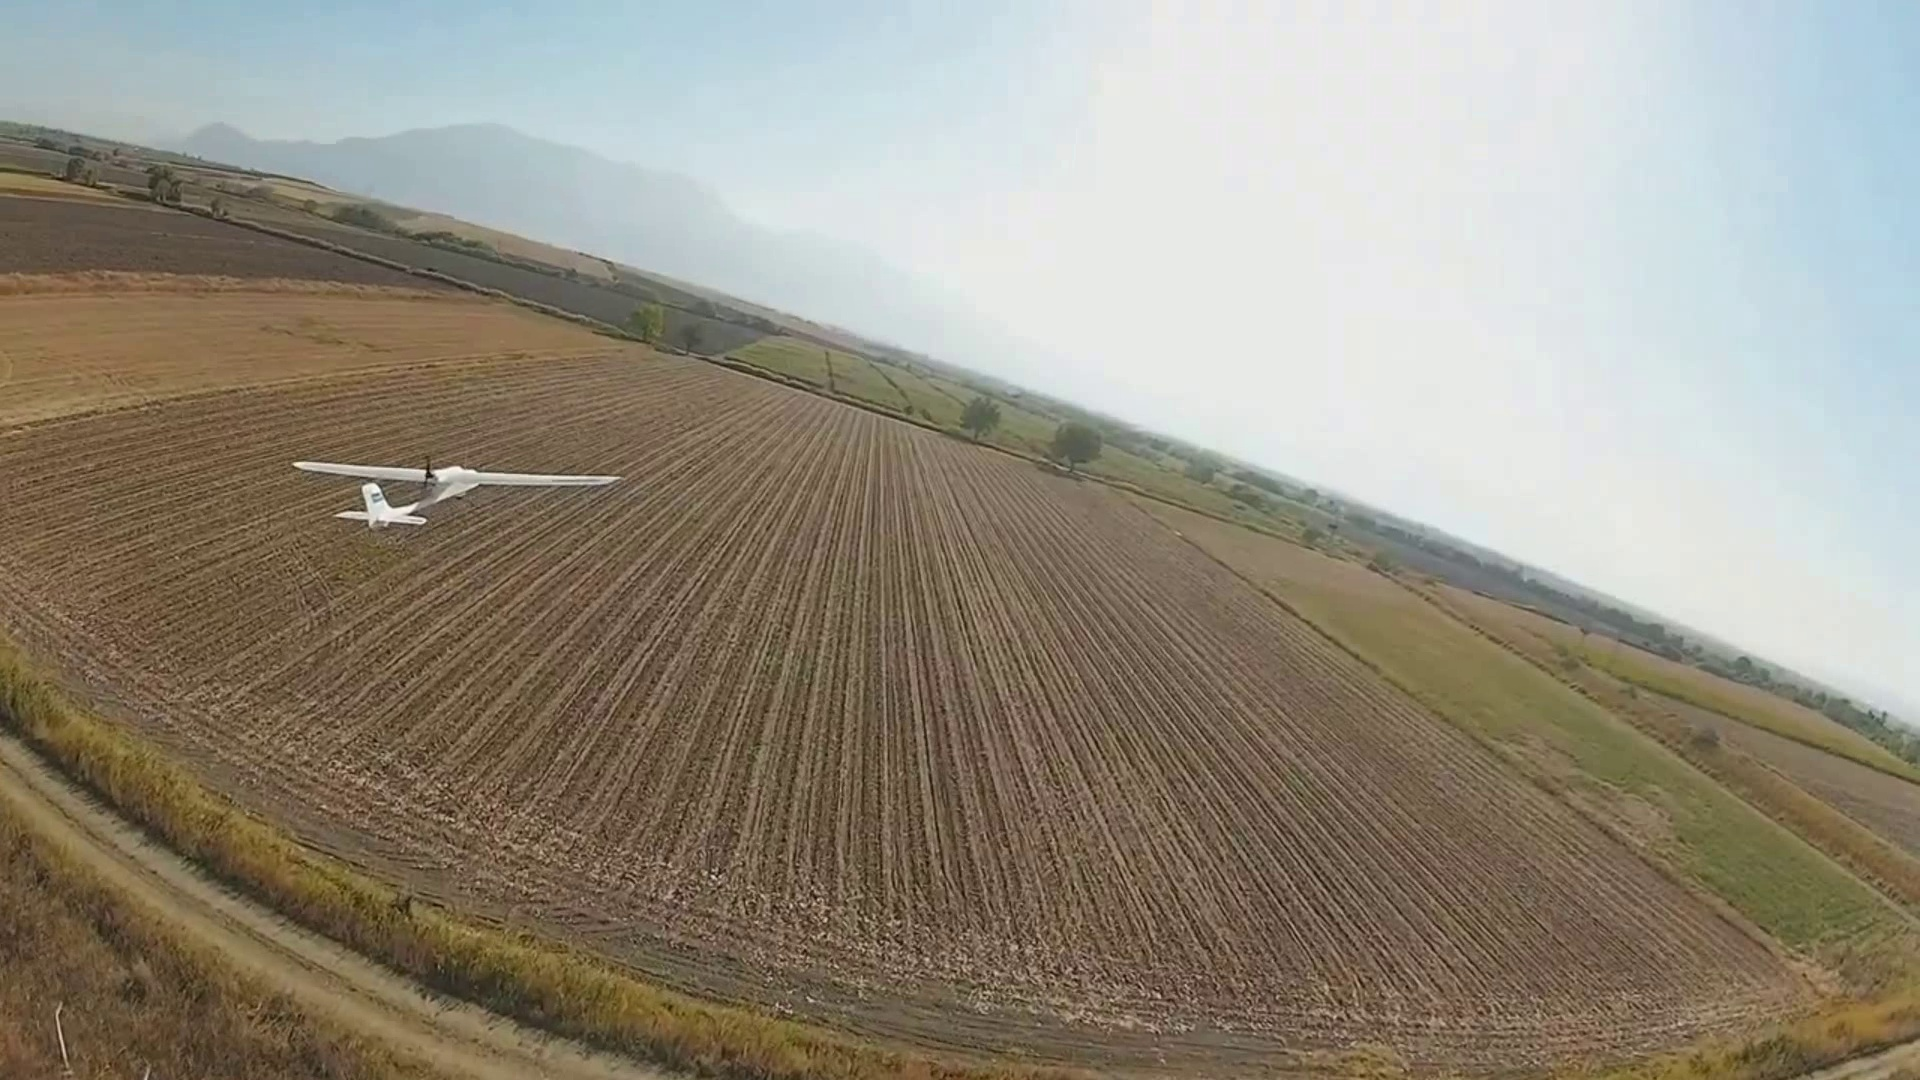airplane: (289, 458, 626, 531)
